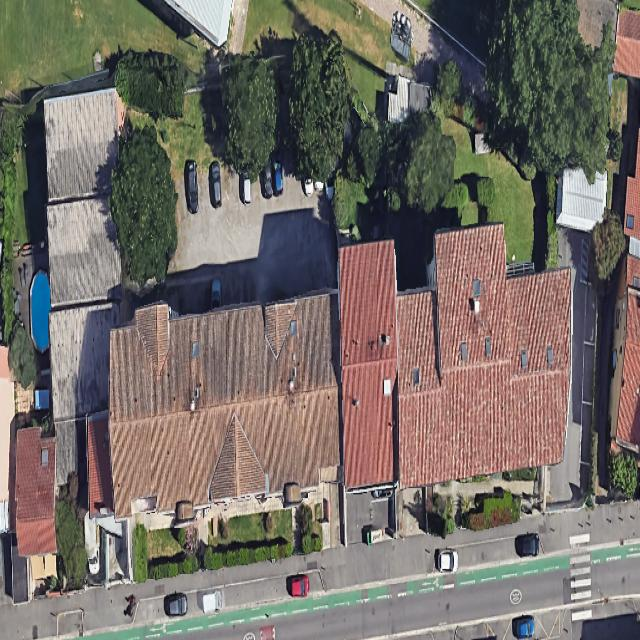immeuble: (98, 290, 353, 517), (397, 224, 571, 487), (337, 242, 402, 489), (615, 291, 639, 451)
